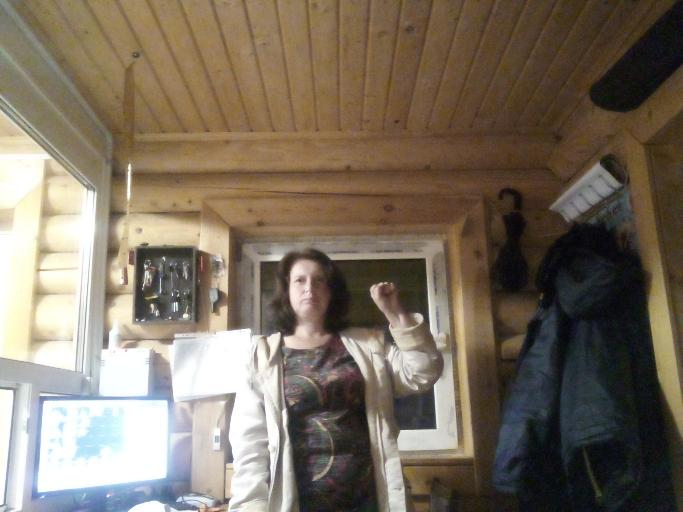fist: (368, 279, 401, 314)
